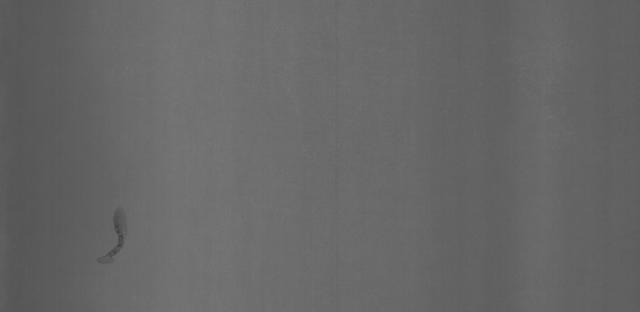water_spot: (94, 194, 140, 270)
